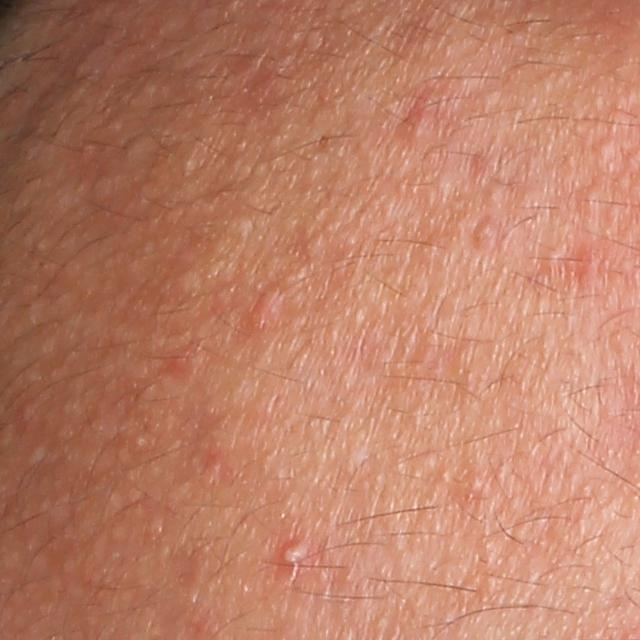comedo: (576, 181, 610, 216), (470, 215, 500, 250), (590, 132, 621, 165), (122, 128, 152, 160), (429, 172, 457, 204), (224, 214, 257, 240), (175, 267, 206, 294), (131, 429, 148, 451)
papule: (242, 281, 285, 334), (402, 101, 437, 137)
pustule: (276, 533, 323, 580)
